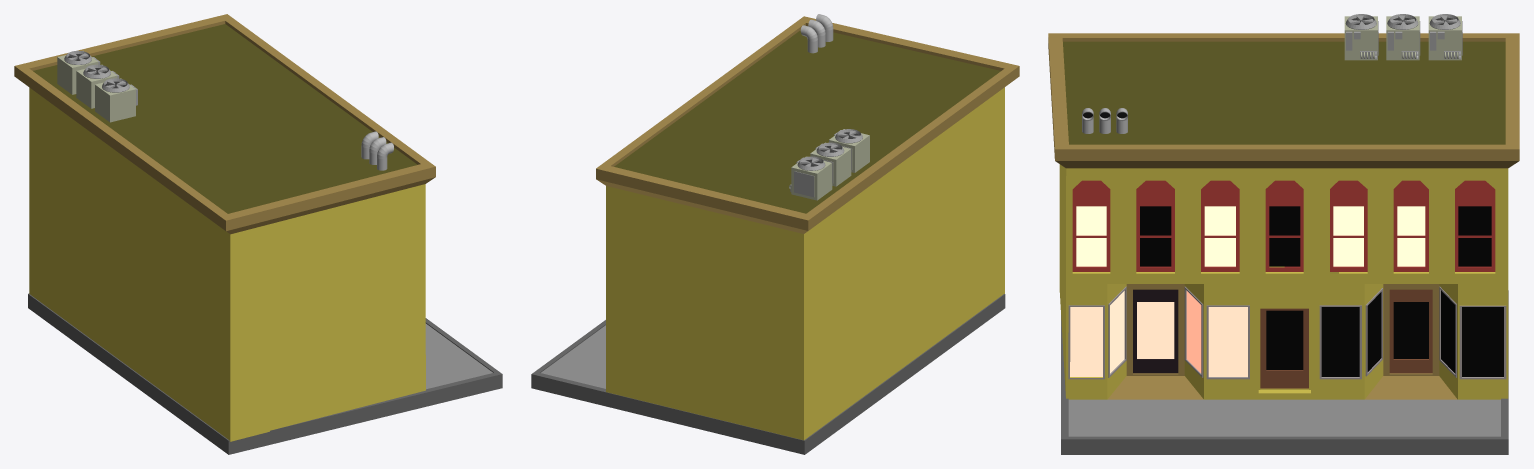
File: store2.glb
3 renders of one model, left to right at view 1: azimuth 30°, elevation 25°; view 2: azimuth 150°, elevation 25°; view 3: azimuth 270°, elevation 25°, orthographic. The views are drawn at different scales.
Parts seen in each view (by area): view 1: Cube, Cube.001, Plane, Cube.005, Cube.003, Cube.004, Cylinder.004; view 2: Cube, Cube.001, Plane, Cube.003, Cube.004, Cube.005, Cylinder.004; view 3: Cube, Plane, Cube.001, Cube.004, Cube.003, Cube.005, Cylinder.004.
Boxes of the visible parts, box(x1,y1,x2,y2) form: Cube: box(14, 14, 435, 441); Cube.001: box(28, 293, 502, 454); Plane: box(425, 323, 492, 389); Cube.005: box(95, 78, 137, 122); Cube.003: box(57, 50, 100, 94); Cube.004: box(76, 64, 119, 108); Cylinder.004: box(361, 131, 393, 170); Cube: box(596, 16, 1019, 440); Cube.001: box(531, 294, 1005, 454); Plane: box(541, 325, 605, 388); Cube.003: box(789, 156, 832, 200); Cube.004: box(810, 142, 851, 186); Cube.005: box(829, 129, 869, 172); Cylinder.004: box(800, 14, 833, 53); Cube: box(1048, 33, 1519, 399); Plane: box(1068, 399, 1500, 436); Cube.001: box(1061, 290, 1508, 454); Cube.004: box(1386, 14, 1420, 60); Cube.003: box(1428, 14, 1462, 60); Cube.005: box(1344, 14, 1378, 60); Cylinder.004: box(1082, 108, 1127, 133).
Size of the model in its own units: 22.78 by 20.64 by 29.56.
